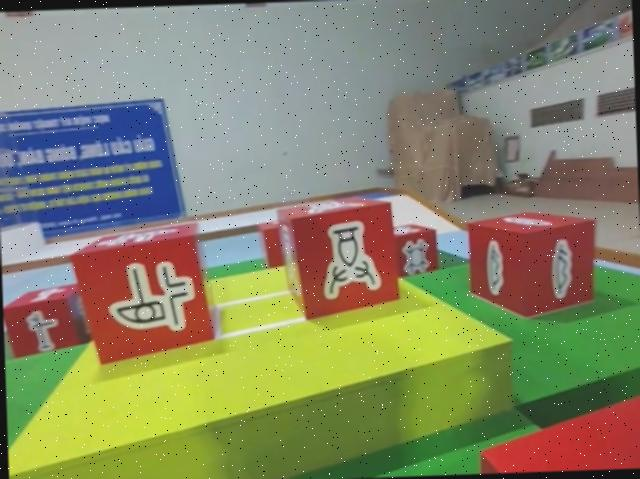R2 Real: (67, 216, 220, 368), (273, 191, 400, 322), (464, 207, 600, 320), (1, 276, 97, 361), (380, 218, 441, 278)
